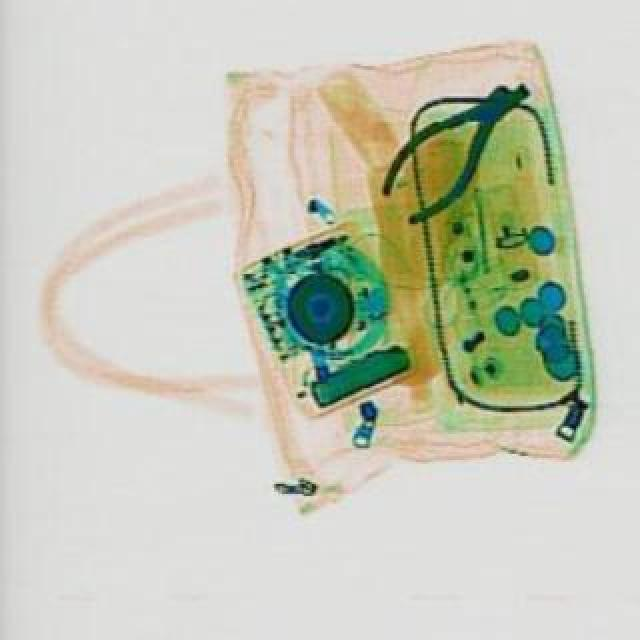wrench: (360, 52, 548, 232)
